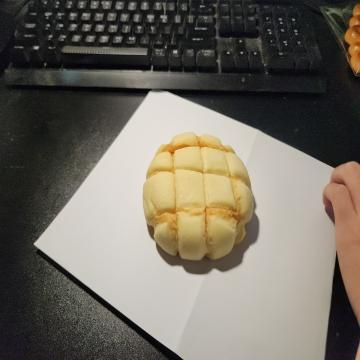melon_bread: (145, 133, 254, 264)
